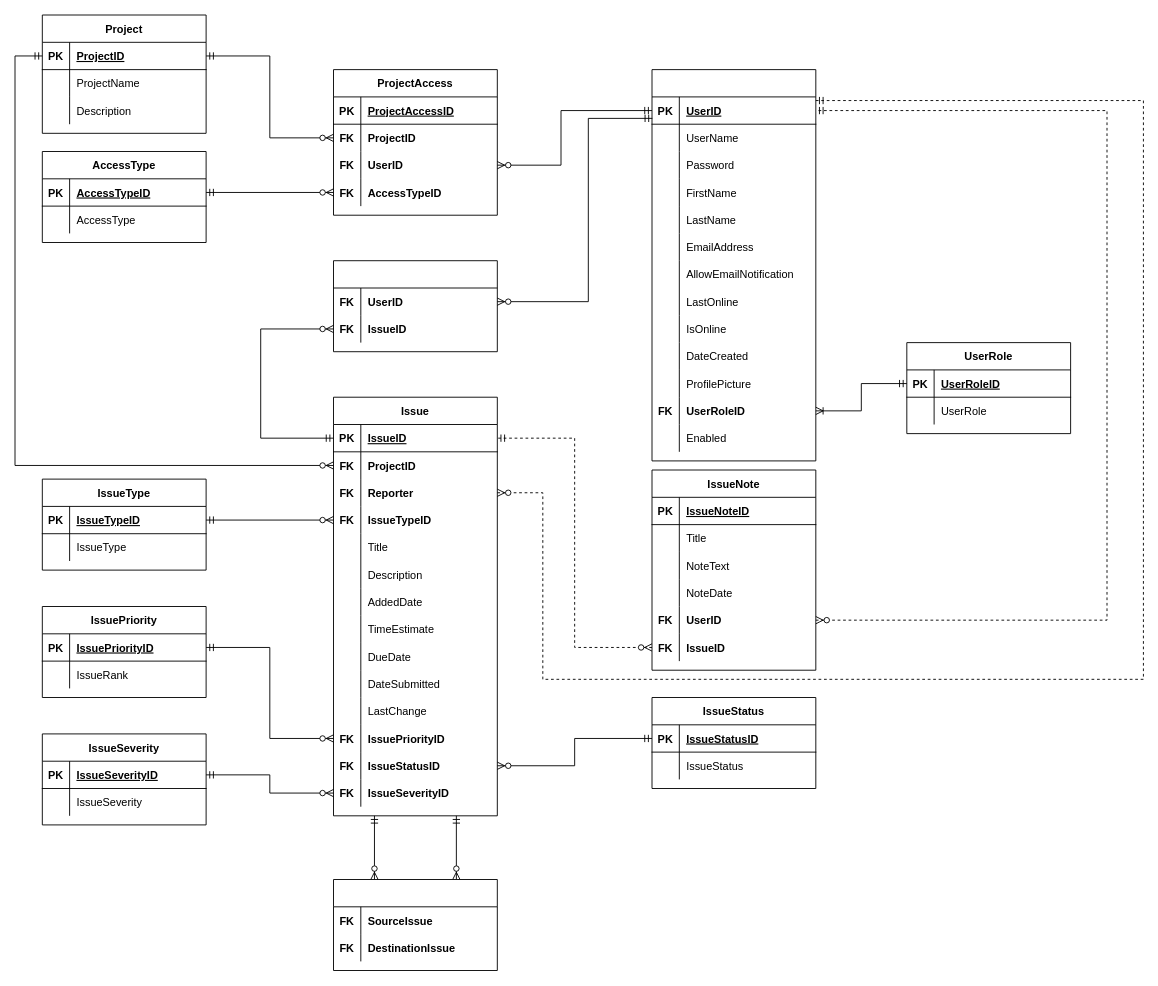
This 1158x986 diagram has some shape labels left out. Each missing label, with the box of its shape:
IssueAssignee: (333, 260, 497, 352)
RelatedIssue: (333, 879, 497, 971)
UserProfile: (651, 69, 816, 461)
